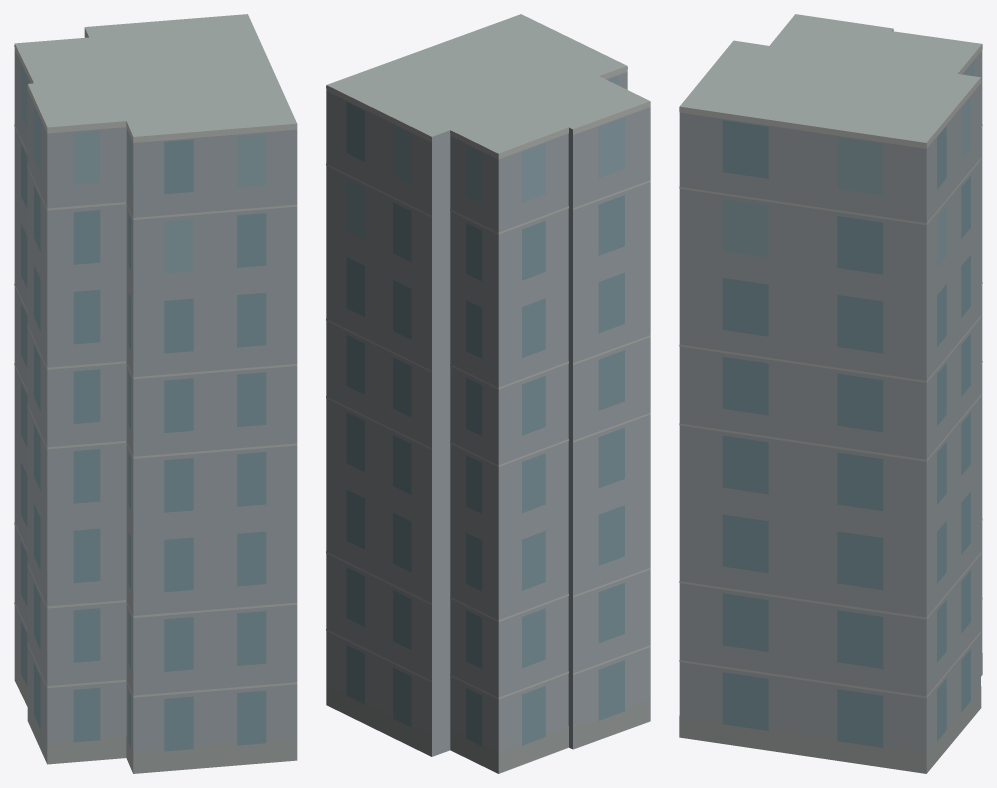
File: survey-upis-32579361.glb
3 renders of one model, left to right at view 1: azimuth 30°, elevation 25°; view 2: azimuth 150°, elevation 25°; view 3: azimuth 270°, elevation 25°, orthographic. The views are drawn at different scales.
Visible parts, largest first — view 1: survey-upis-32579361.tmp; view 2: survey-upis-32579361.tmp; view 3: survey-upis-32579361.tmp.
Part boxes in pixels (x1,y1,x2,y2): survey-upis-32579361.tmp: [14, 14, 297, 773]; survey-upis-32579361.tmp: [326, 14, 650, 773]; survey-upis-32579361.tmp: [679, 14, 982, 773].
Size of the model in its own units: 11.47 by 26.1 by 11.38.
